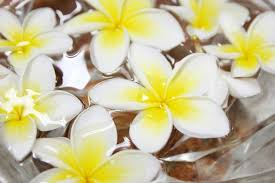frangipani: (92, 42, 230, 149)
